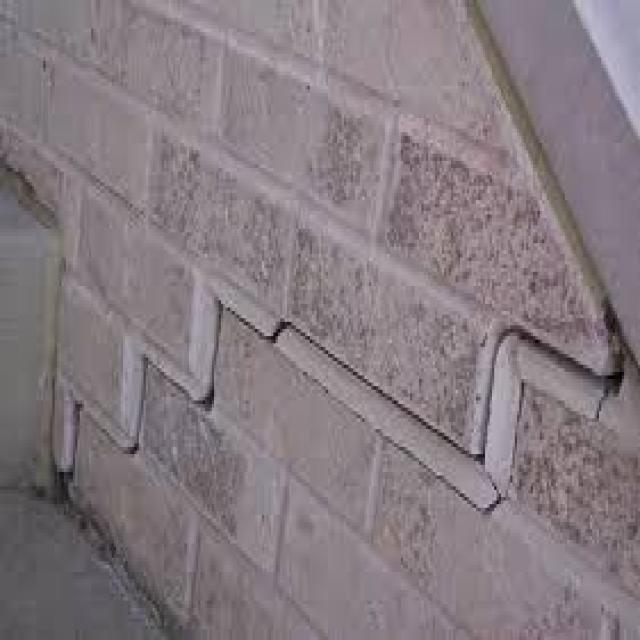Crack: (59, 286, 631, 501)
